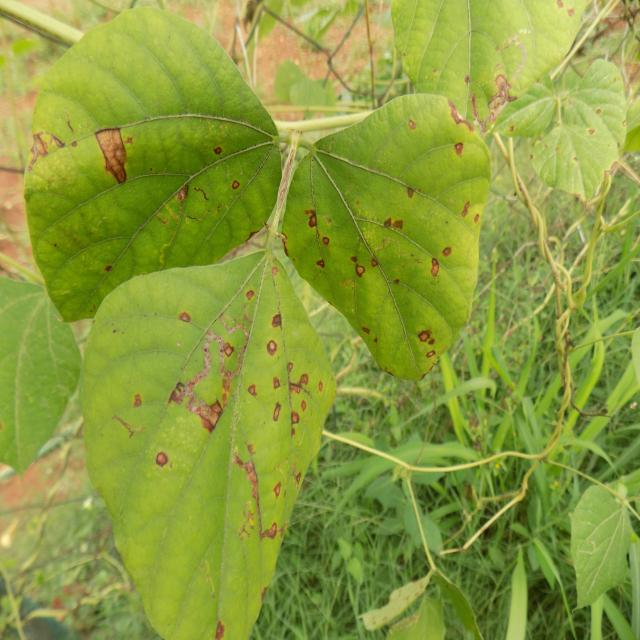Dolicos bean_cercospora leaf spot: (72, 253, 332, 640), (25, 5, 276, 327), (280, 88, 488, 384), (532, 128, 615, 201), (498, 68, 562, 151), (574, 62, 625, 164)
Dolicos bean_healthy: (0, 260, 83, 472)
